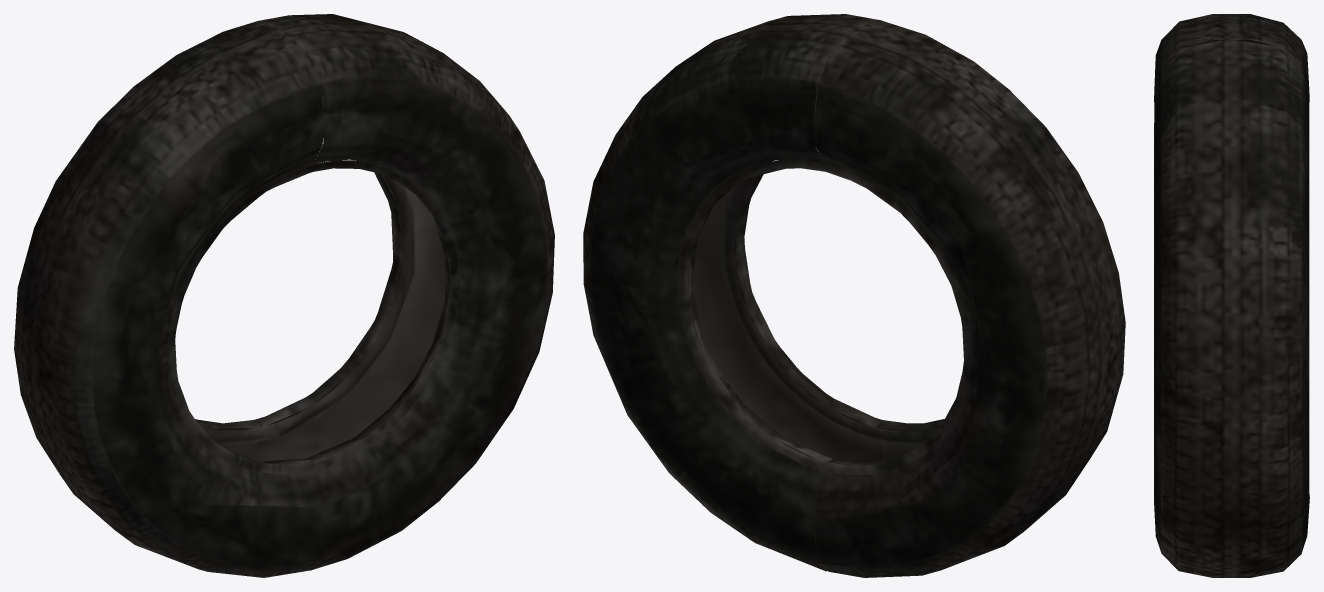
Rendered from ph_old_tyre.glb.
The picture shows the model from 3 angles, left to right: view 1: azimuth 30°, elevation 25°; view 2: azimuth 150°, elevation 25°; view 3: azimuth 270°, elevation 25°; orthographic projection. The views are drawn at different scales.
Visible parts, largest first — view 1: old_tyre; view 2: old_tyre; view 3: old_tyre.
Part boxes in pixels (left/top/right/bottom): old_tyre: left=14, top=14, right=554, bottom=577; old_tyre: left=583, top=14, right=1125, bottom=577; old_tyre: left=1154, top=14, right=1309, bottom=577.
Bounding box in the file's own units: 0.6002 × 0.6035 × 0.1656.
Materials: 1 (1 with a texture image).
